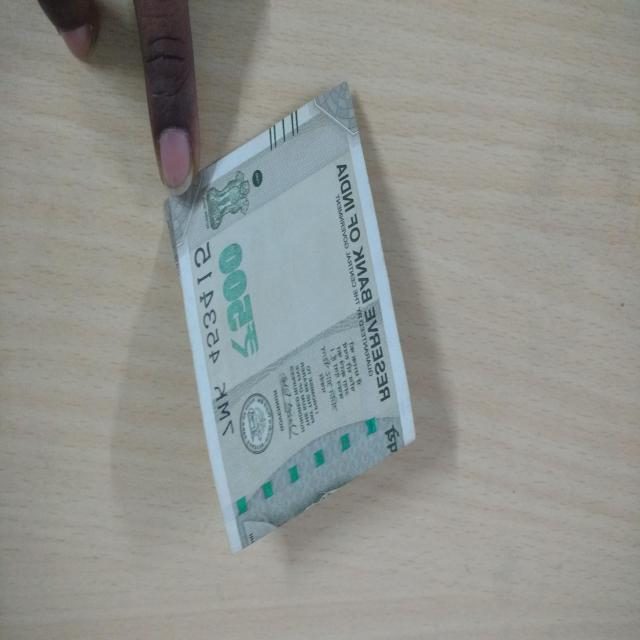Currency: (134, 131, 452, 561)
